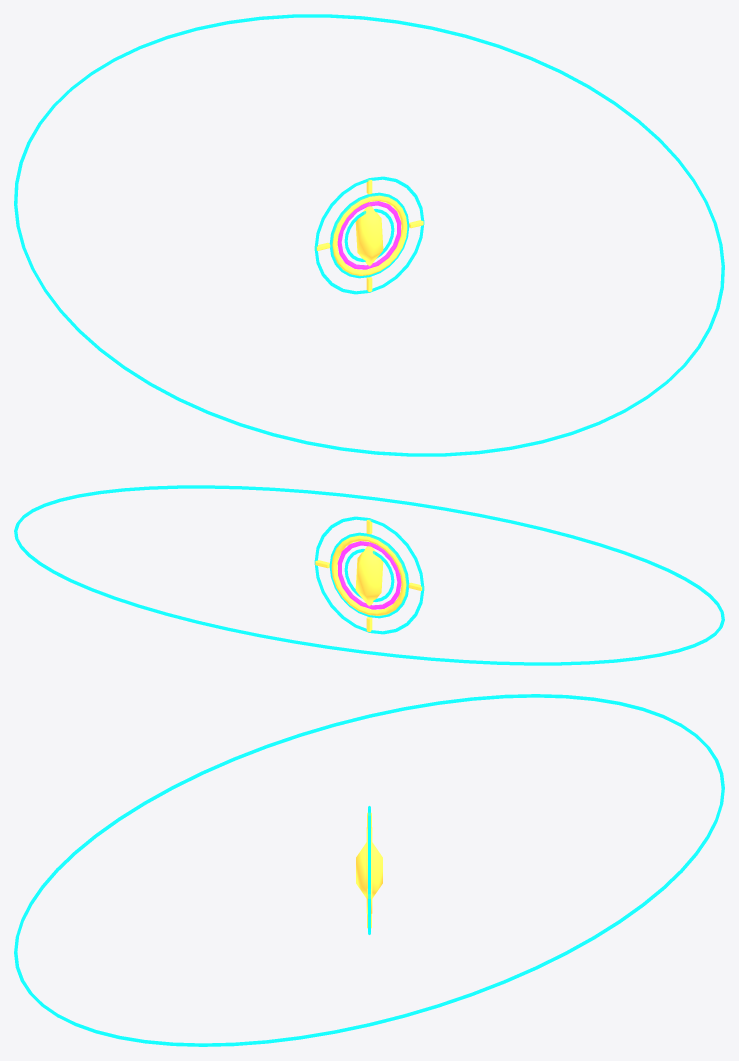
File: Orbit_UI.glb
3 views of the same model, one above another, from view 1: azimuth 30°, elevation 25°; view 2: azimuth 150°, elevation 25°; view 3: azimuth 270°, elevation 25° (orthographic). The views are drawn at different scales.
Visible parts, largest first — view 1: Orbit_Path, TargetMarker_Ring, SignalPing_Ring_3, NavigationBeacon_Diamond, UnknownSignal_BrokenRing, SignalPing_Ring_2; view 2: Orbit_Path, TargetMarker_Ring, SignalPing_Ring_3, NavigationBeacon_Diamond, UnknownSignal_BrokenRing, SignalPing_Ring_2, SignalPing_Ring_1; view 3: Orbit_Path, NavigationBeacon_Diamond.
Boxes of the visible parts, x1,y1,x2,y2 form: Orbit_Path: (14,14,724,456); TargetMarker_Ring: (332,195,407,275); SignalPing_Ring_3: (314,176,424,294); NavigationBeacon_Diamond: (355,204,383,266); UnknownSignal_BrokenRing: (337,201,401,269); SignalPing_Ring_2: (329,192,409,278); Orbit_Path: (14,485,724,665); TargetMarker_Ring: (331,535,406,615); SignalPing_Ring_3: (314,516,424,634); NavigationBeacon_Diamond: (355,544,383,606); UnknownSignal_BrokenRing: (337,541,401,609); SignalPing_Ring_2: (329,532,409,618); SignalPing_Ring_1: (344,549,394,601); Orbit_Path: (14,694,724,1046); NavigationBeacon_Diamond: (356,842,382,898).
Bounding box in the file's own units: 7.44 × 1.87 × 7.2.
